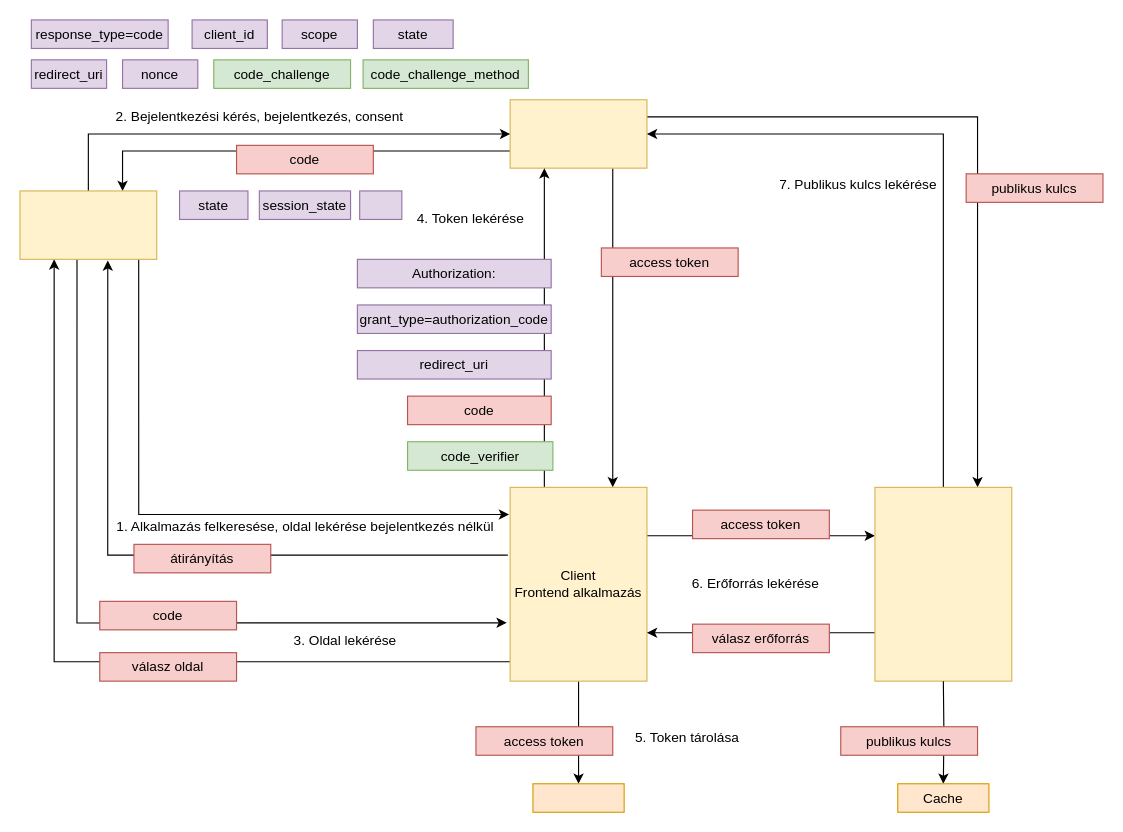
The diagram is 1123 pixels wide and 832 high, and some of its shapes have lost their labels. The box of each missing label's shape, as (x1, y1, x2, y2) in pixels:
Authorization Server Keycloak: (509, 99, 647, 168)
Client Felhasználó, böngészővel: (19, 190, 157, 259)
iss: (359, 190, 402, 219)
Resource Server Backend alkalmazás: (874, 486, 1012, 681)
Session: (532, 783, 624, 812)
